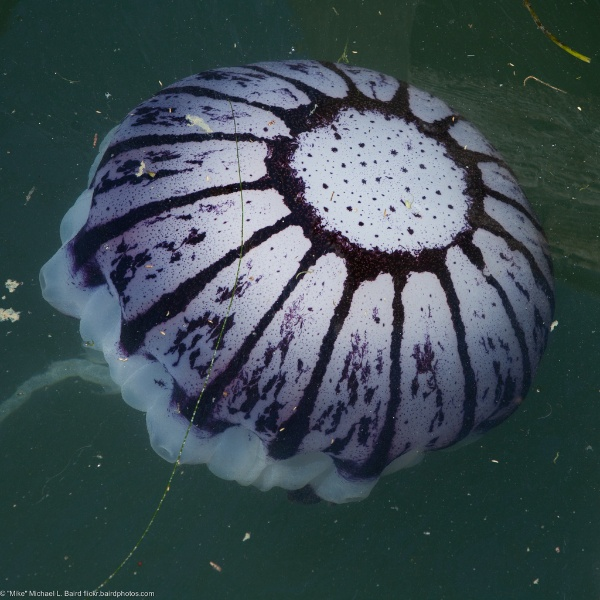Jellyfish: (0, 57, 557, 504)
